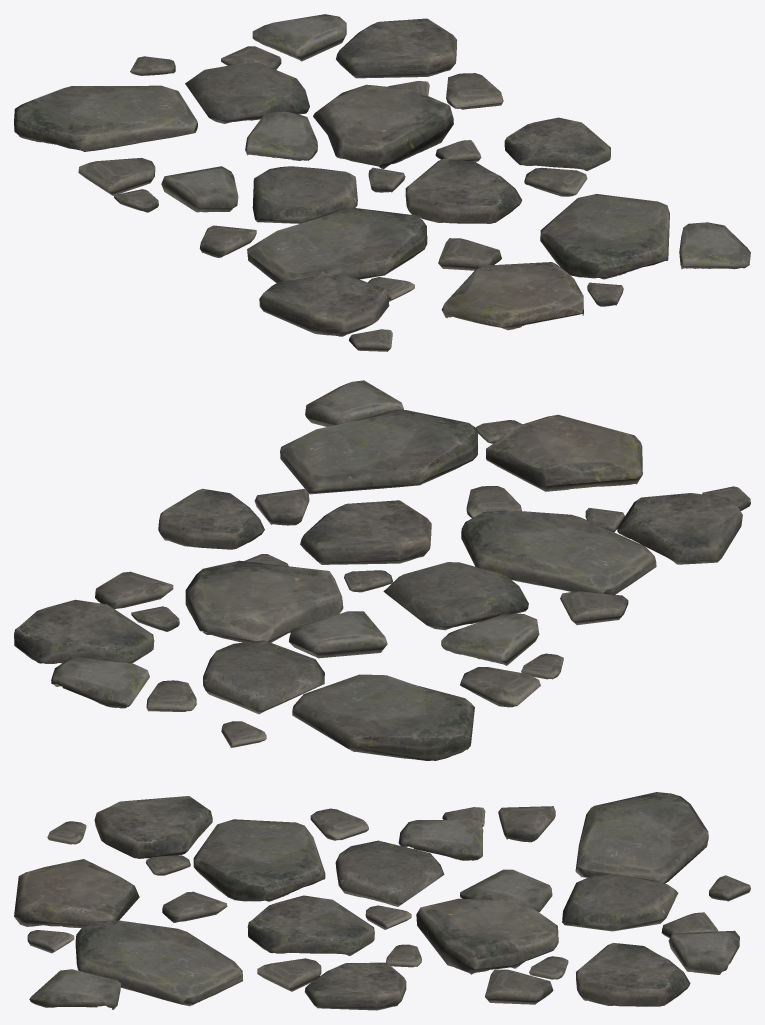
The picture shows the model from 3 angles, top to bottom: view 1: azimuth 30°, elevation 25°; view 2: azimuth 150°, elevation 25°; view 3: azimuth 270°, elevation 25°; orthographic projection. The views are drawn at different scales.
Parts seen in each view (by area): view 1: SM_DeathTemple_Cobble_Road_01v4_RVT_LOD0; view 2: SM_DeathTemple_Cobble_Road_01v4_RVT_LOD0; view 3: SM_DeathTemple_Cobble_Road_01v4_RVT_LOD0.
Part boxes in pixels (<box>): SM_DeathTemple_Cobble_Road_01v4_RVT_LOD0: <box>14,14,750,351</box>; SM_DeathTemple_Cobble_Road_01v4_RVT_LOD0: <box>14,380,750,760</box>; SM_DeathTemple_Cobble_Road_01v4_RVT_LOD0: <box>14,792,750,1010</box>.
Size of the model in its own units: 1.94 by 0.123 by 2.94.
Materials: 1 (1 with a texture image).
